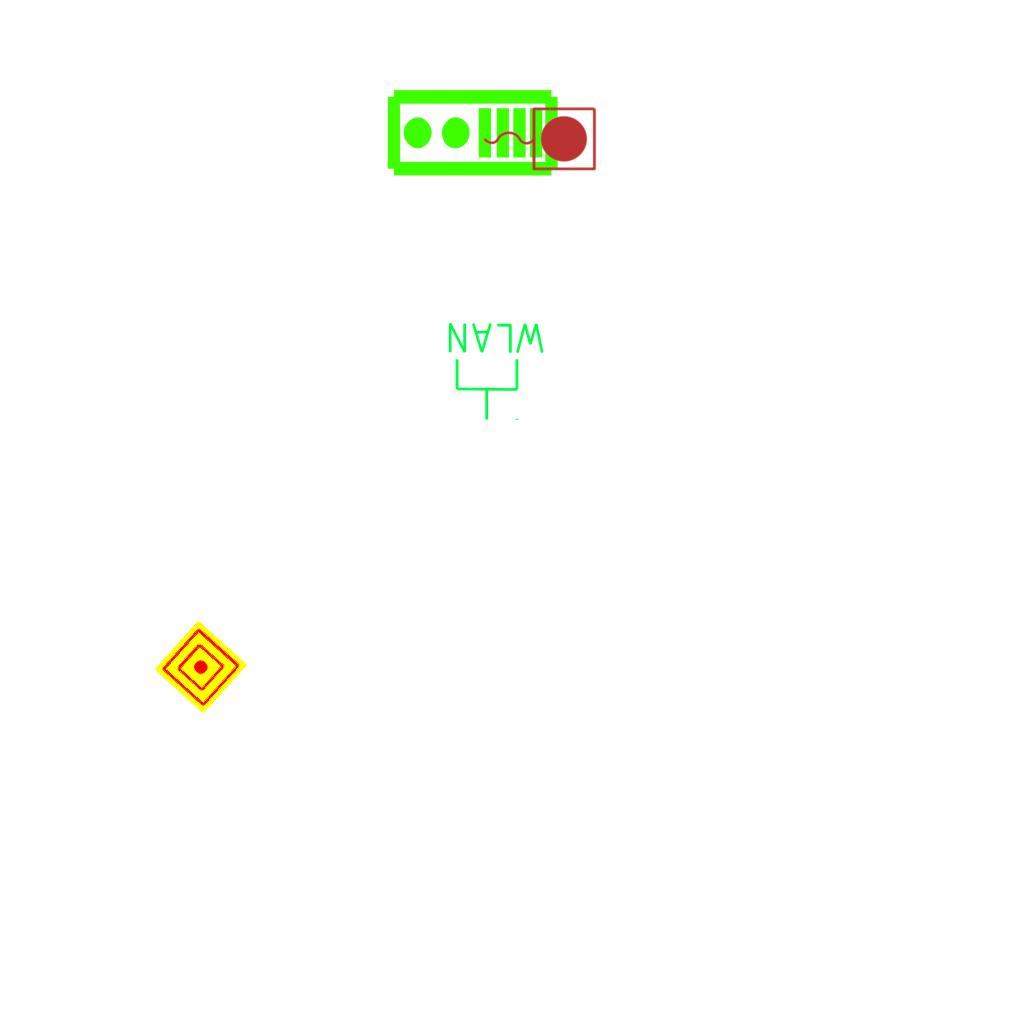Gegensprechanlage_mit_Video: (384, 87, 560, 182)
NAM-Nichtautomatischer_Melder: (154, 620, 248, 714)
WLAN: (444, 319, 549, 423)
Zugtaster: (478, 102, 600, 174)
